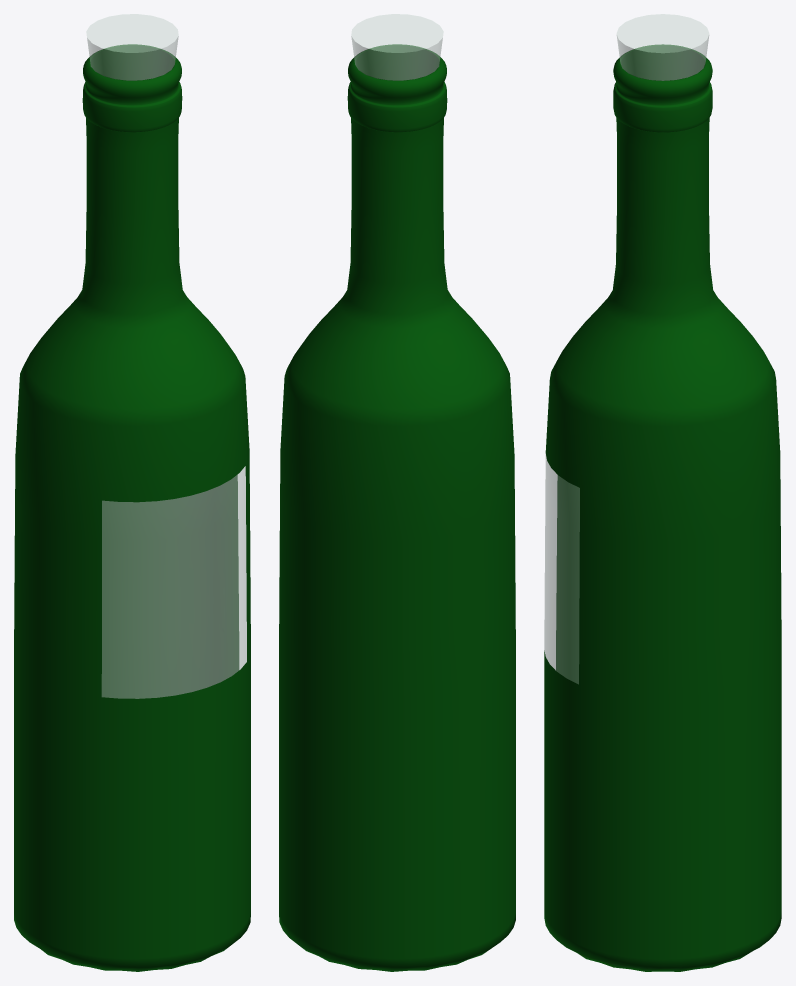
The model's file is vodka.glb.
3 views of the same model, side by side, from view 1: azimuth 30°, elevation 25°; view 2: azimuth 150°, elevation 25°; view 3: azimuth 270°, elevation 25° (orthographic).
Visible parts, largest first — view 1: Bottle; view 2: Bottle; view 3: Bottle.
Boxes of the visible parts, <box> form: Bottle: <box>14,14,250,971</box>; Bottle: <box>279,14,515,971</box>; Bottle: <box>544,14,781,971</box>.
Size of the model in its own units: 0.0721 by 0.3 by 0.0721.
Materials: 2 (1 with a texture image).
